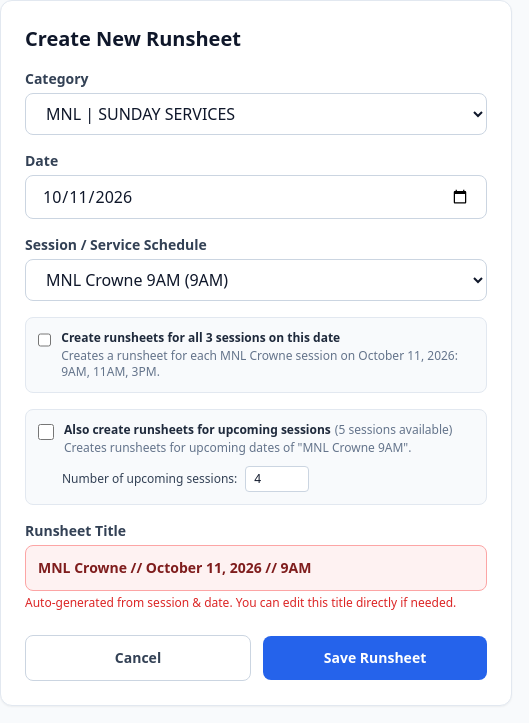
CreateRunsheetForm batch operations › Non-Grow upcoming batch with count › allows changing count input clamped between 1 and available occurrences
Expected: the number field named "Upcoming sessions count" is shown, 245,466 -> 309,492
Click the checkbox labelled "Also create runsheets for upcoming sessions": (46, 432) 38,424 -> 54,440
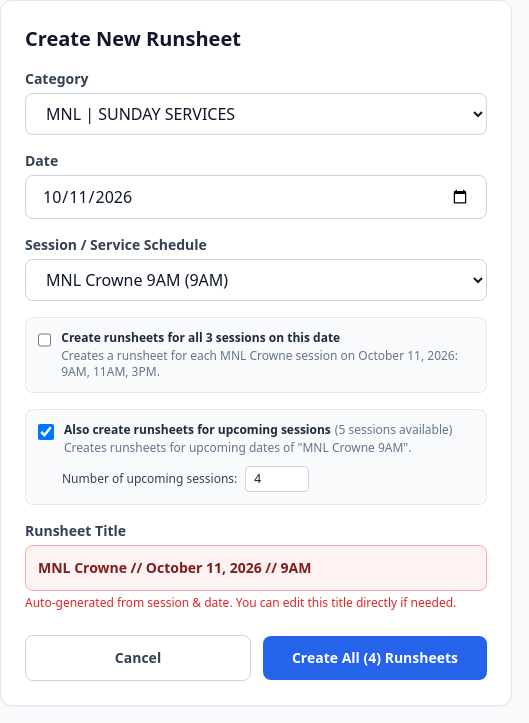
// Change to 2
Replace the text in the number field named "Upcoming sessions count" with "2": (277, 479) 245,466 -> 309,492
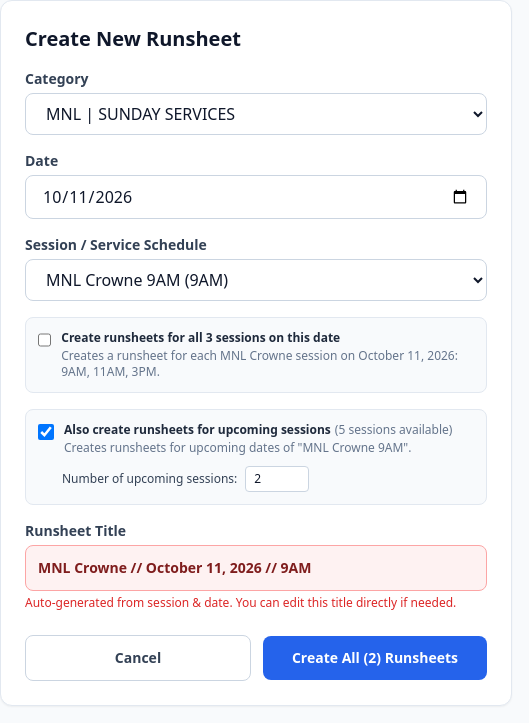
Expected: the button "Create All (2) Runsheets" is shown, 263,636 -> 487,680
Replace the text in the number field named "Upcoming sessions count" with "99": (277, 479) 245,466 -> 309,492
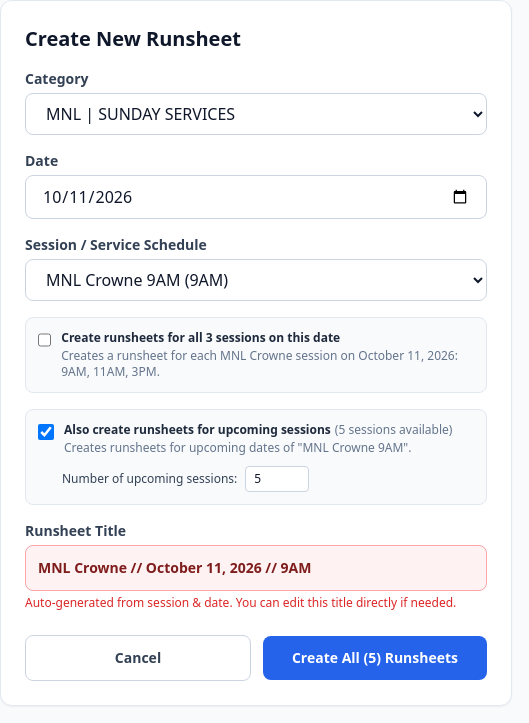
Expected: the button "Create All (5) Runsheets" is shown, 263,636 -> 487,680
Replace the text in the number field named "Upcoming sessions count" with "0": (277, 479) 245,466 -> 309,492
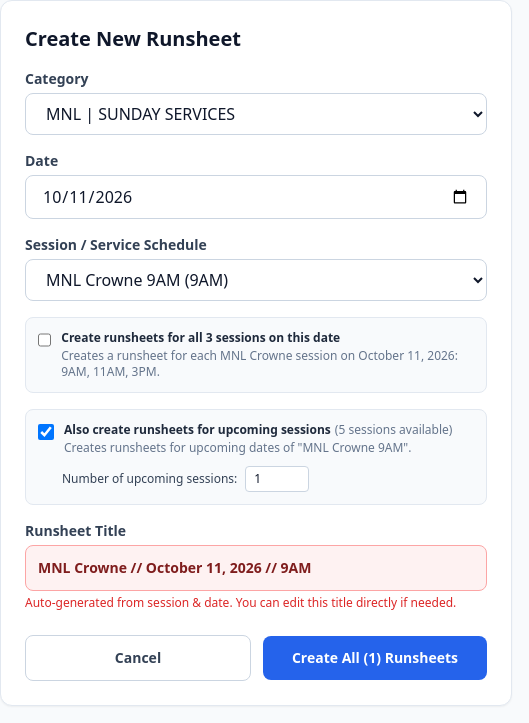
Expected: the button "Create All (1) Runsheets" is shown, 263,636 -> 487,680
